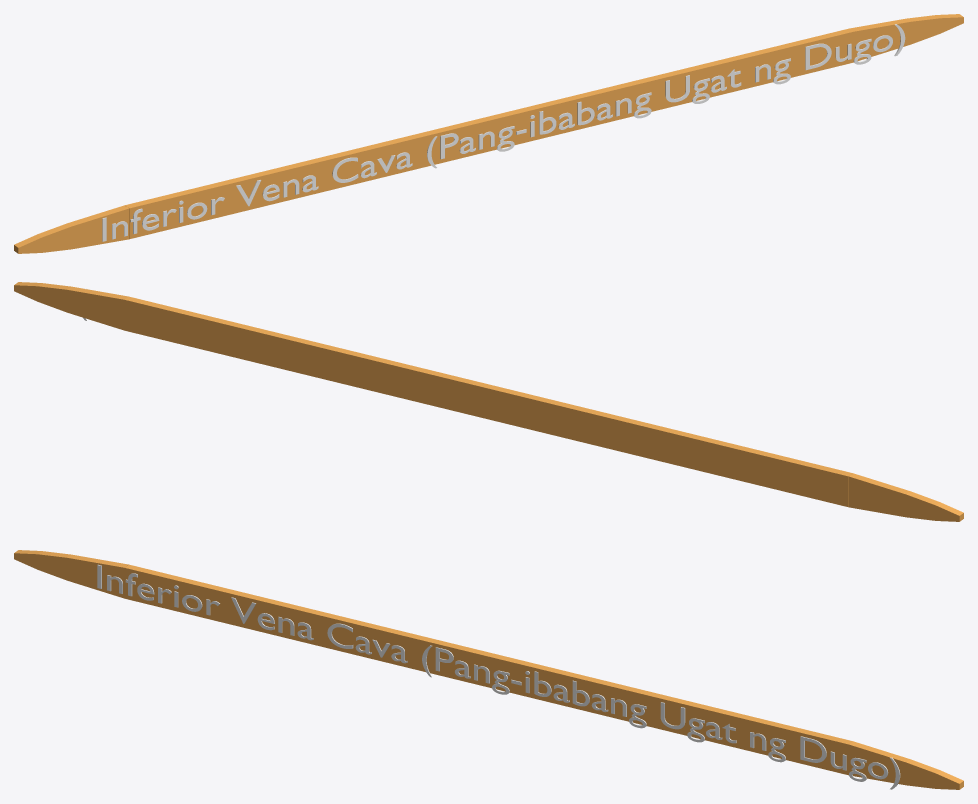
File: txtInferiorVenaCava.fbx
3 renders of one model, top to bottom at view 1: azimuth 30°, elevation 25°; view 2: azimuth 150°, elevation 25°; view 3: azimuth 330°, elevation 25°, orthographic.
Parts seen in each view (by area): view 1: TagContainer.104, Text.106; view 2: TagContainer.104; view 3: TagContainer.104, Text.106.
Part boxes in pixels (x1,y1,x2,y2): TagContainer.104: (14, 14, 963, 253); Text.106: (102, 24, 905, 241); TagContainer.104: (14, 282, 963, 521); TagContainer.104: (14, 550, 963, 789); Text.106: (97, 564, 900, 789).
Size of the model in its own units: 1323 by 45.81 by 11.84.
